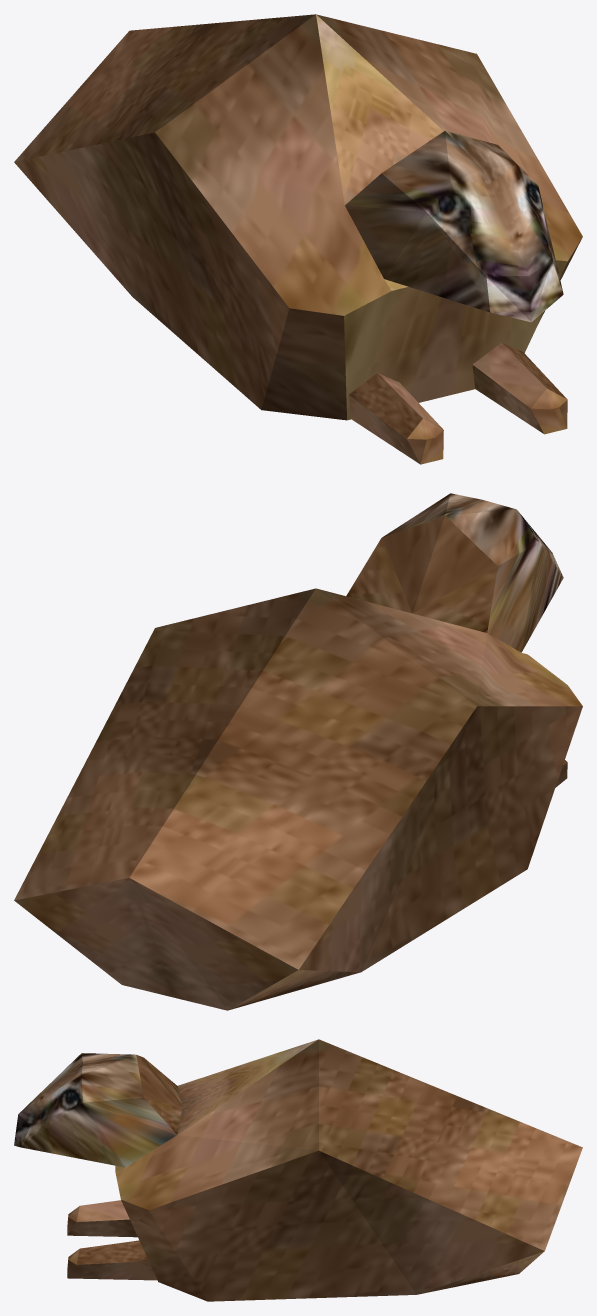
Rendered from floppa.gltf.
3 views of the same model, one above another, from view 1: azimuth 30°, elevation 25°; view 2: azimuth 150°, elevation 25°; view 3: azimuth 270°, elevation 25° (orthographic). The views are drawn at different scales.
Parts seen in each view (by area): view 1: Cube.003; view 2: Cube.003; view 3: Cube.003.
Boxes of the visible parts, x1,y1,x2,y2 form: Cube.003: (14,14,582,464); Cube.003: (14,493,582,1010); Cube.003: (14,1039,582,1301).
Bounding box in the file's own units: 1.2 × 1.09 × 2.59.
Materials: 1 (1 with a texture image).
